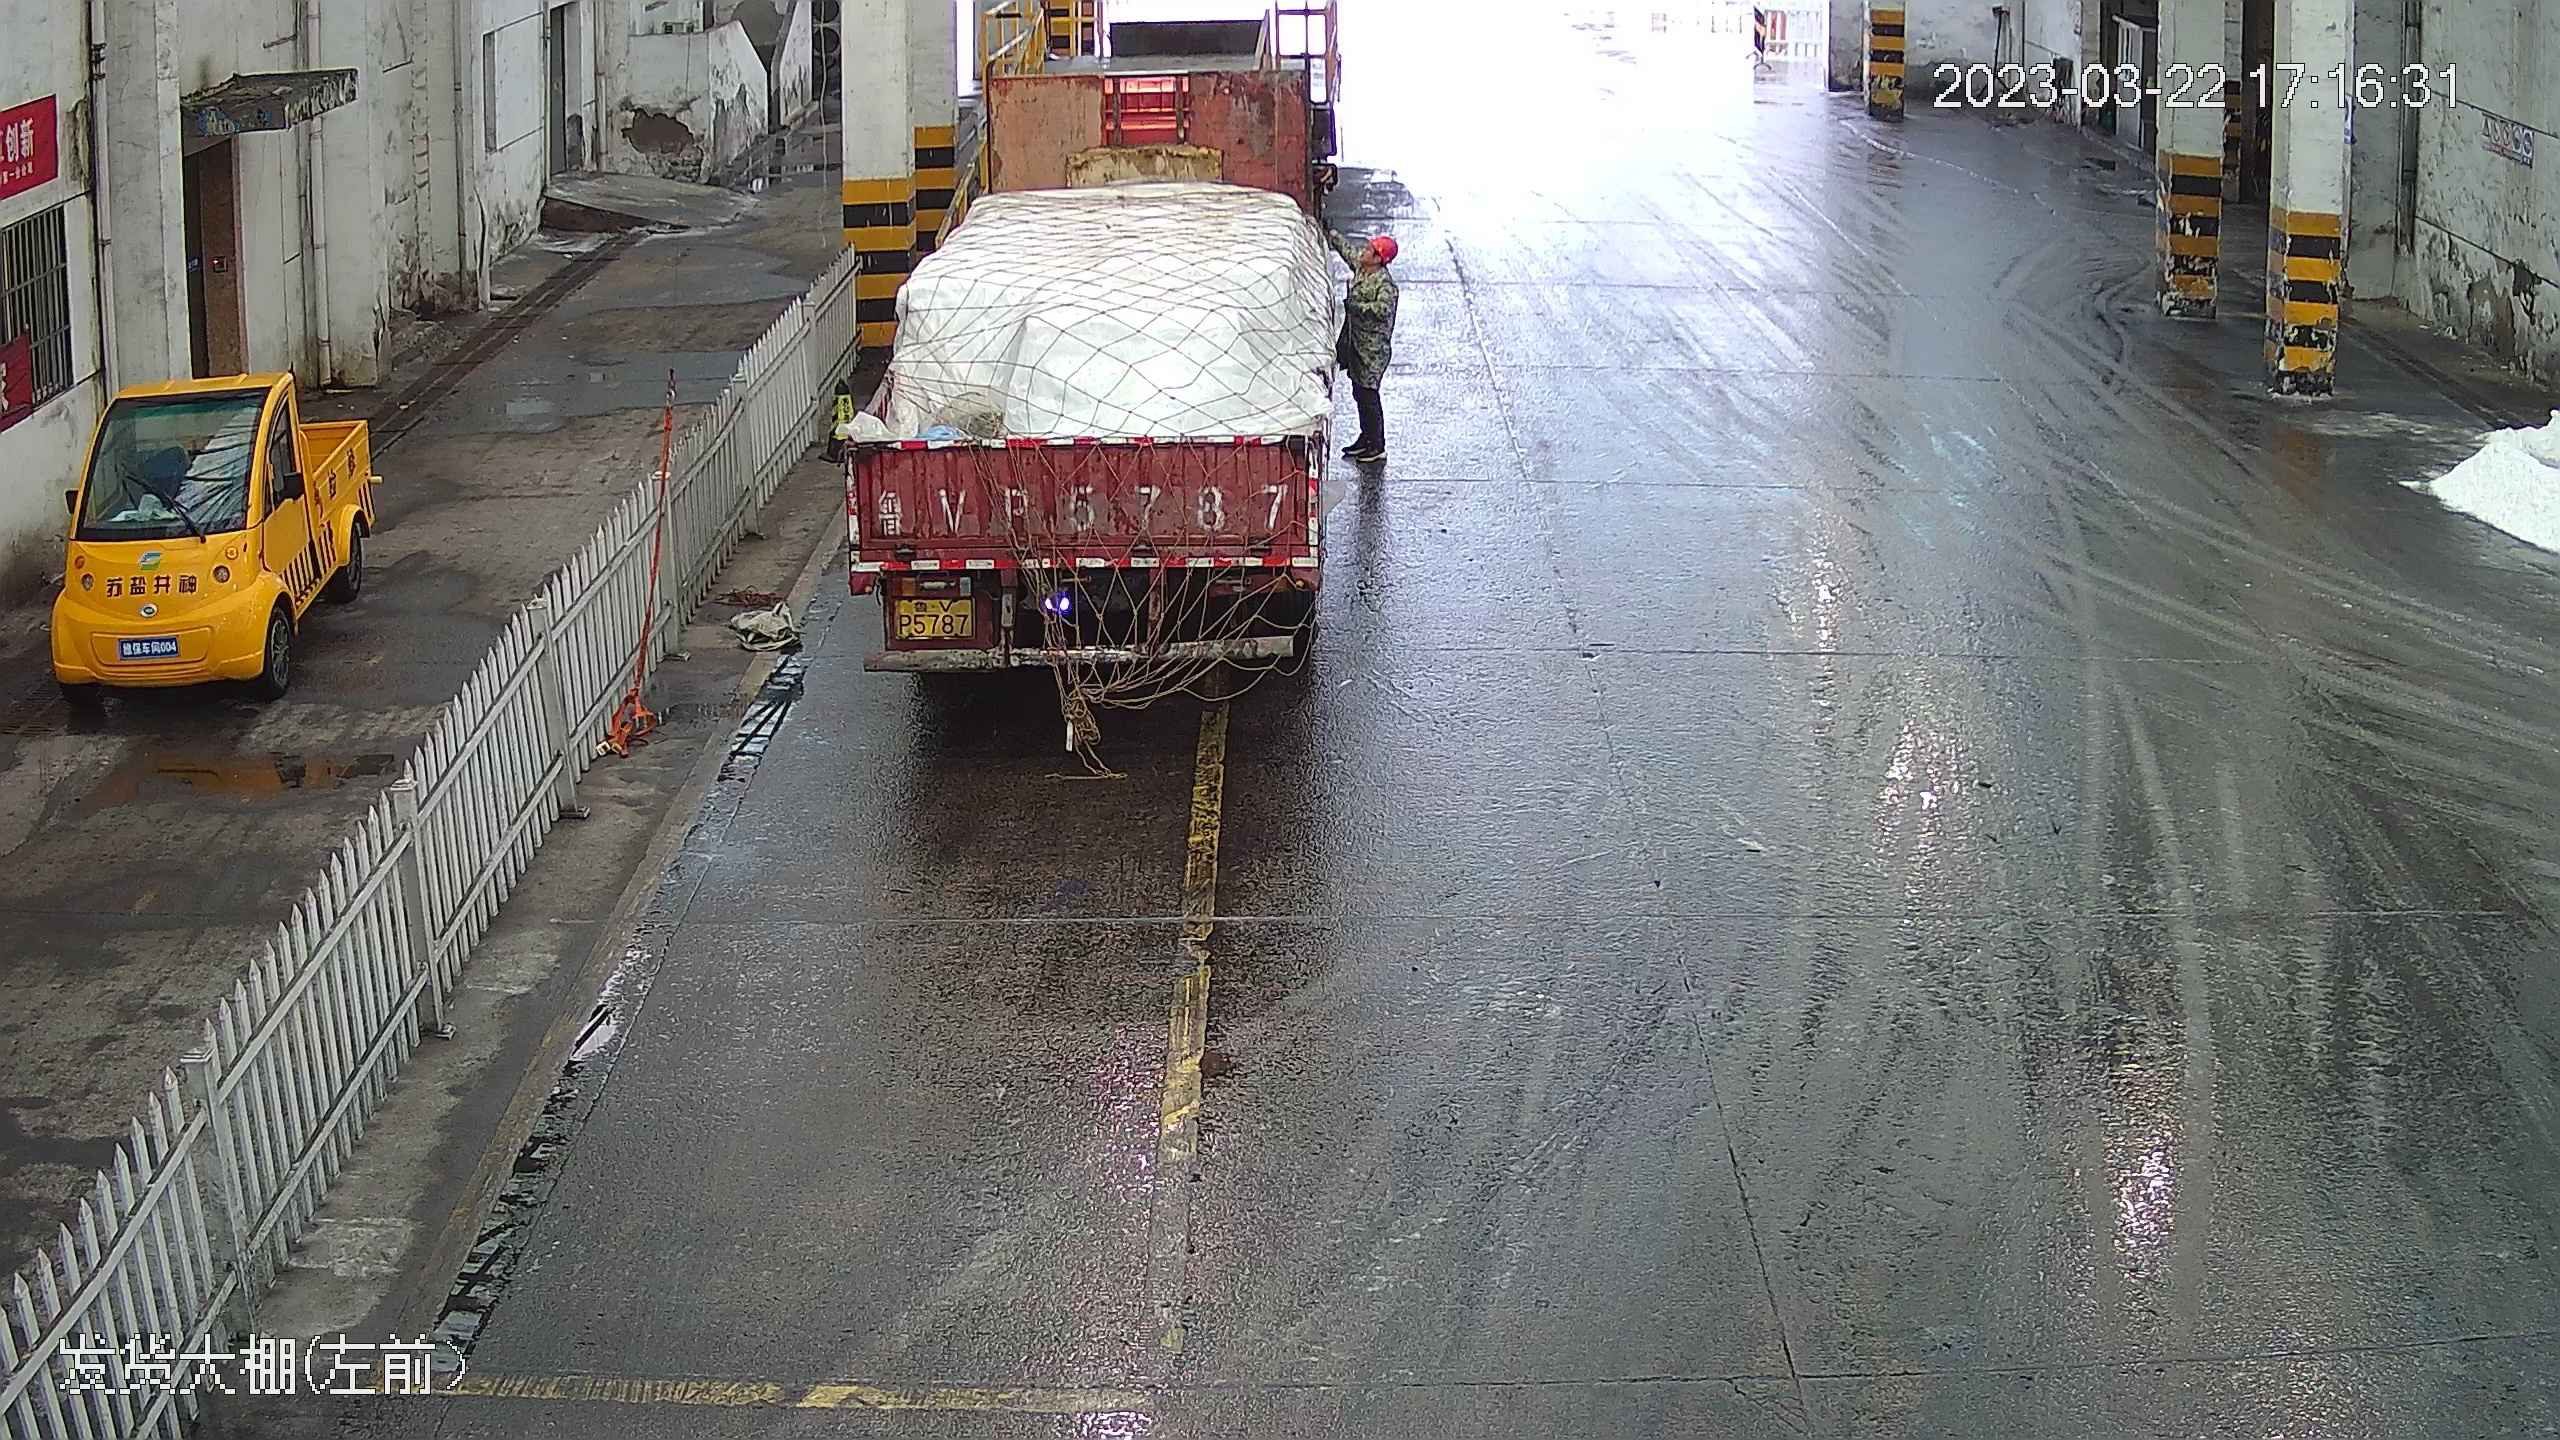head: (1343, 230, 1398, 304)
helmet: (1363, 230, 1395, 258)
people: (1328, 228, 1396, 481)
truck: (838, 15, 1350, 691)
